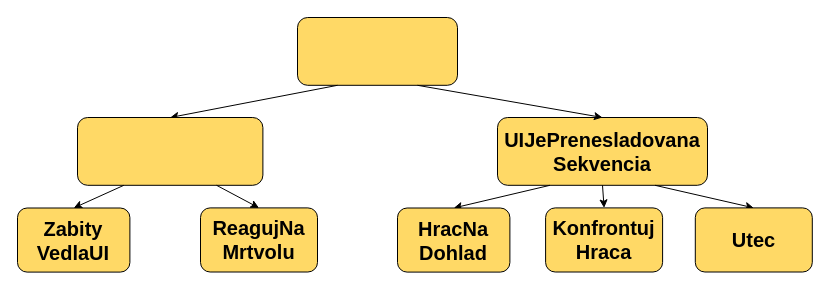
Image size: 830x290. Some labels were removed from this diagram. Each missing label, with the box of its shape:
SelektorKoreň: (296, 16, 458, 85)
ZabityVedlaUI Sekvencia: (76, 116, 263, 185)
